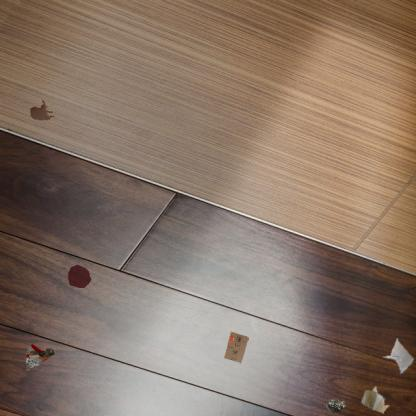dirty: (381, 338, 415, 374), (360, 385, 392, 415), (24, 342, 56, 372), (222, 331, 249, 363), (323, 397, 348, 415)
liquid: (66, 263, 93, 289), (29, 98, 56, 122)
